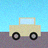vehicle: (9, 18, 40, 40)
